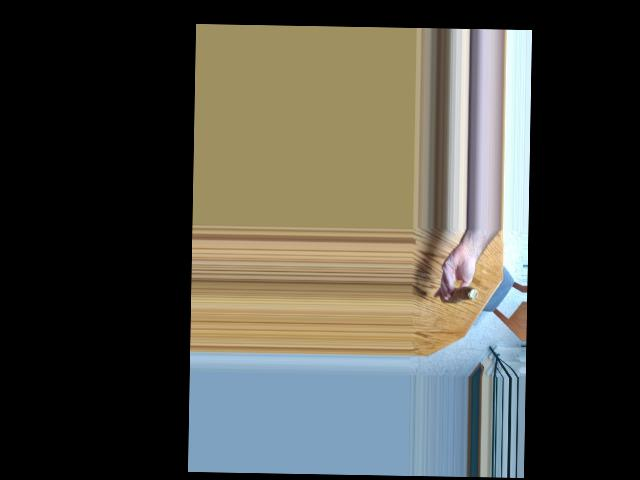sweet_potato: (439, 291, 473, 304)
